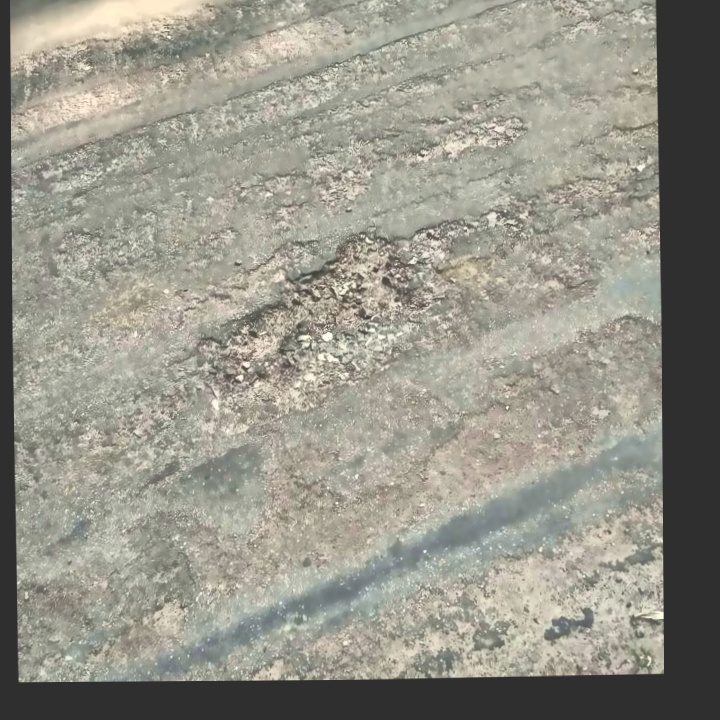pothole: (194, 223, 420, 393), (412, 113, 525, 162)
